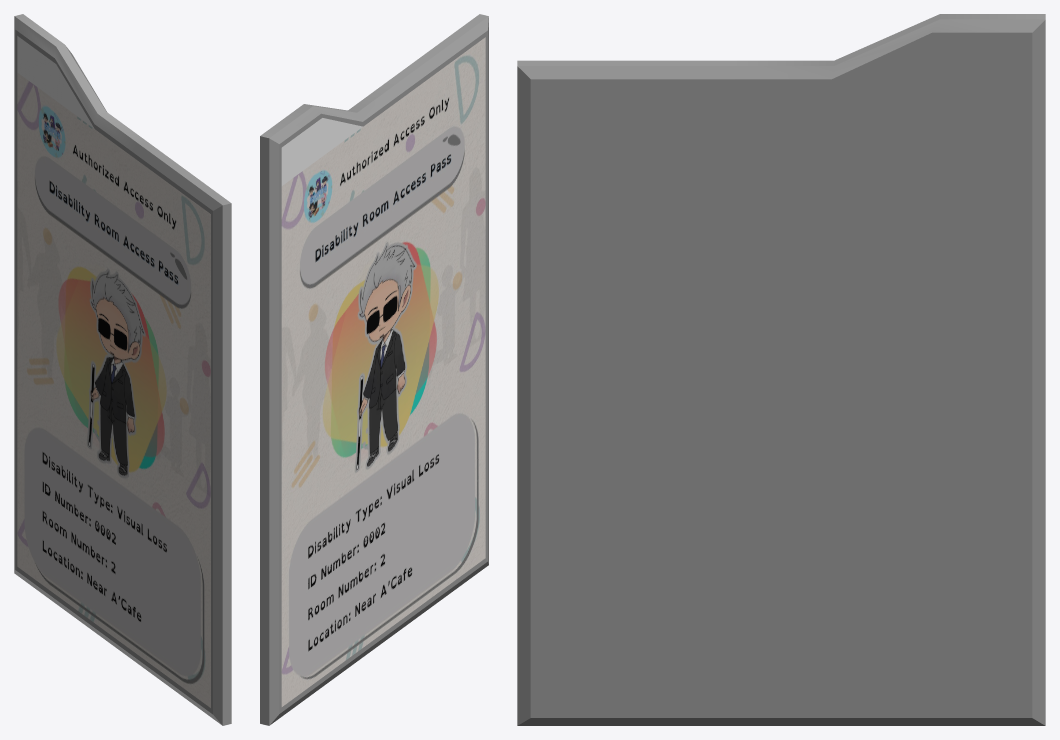
The model's file is CardBlind.fbx.
3 renders of one model, left to right at view 1: azimuth 30°, elevation 25°; view 2: azimuth 150°, elevation 25°; view 3: azimuth 270°, elevation 25°, orthographic. The views are drawn at different scales.
Parts seen in each view (by area): view 1: pCube38; view 2: pCube38; view 3: pCube38.
Part boxes in pixels (box(x1,y1,x2,y2)): pCube38: box(14, 14, 231, 725); pCube38: box(260, 14, 488, 725); pCube38: box(517, 14, 1045, 725).
Bounding box in the file's own units: 1.34 × 40.99 × 27.78.
Materials: 3 (1 with a texture image).
